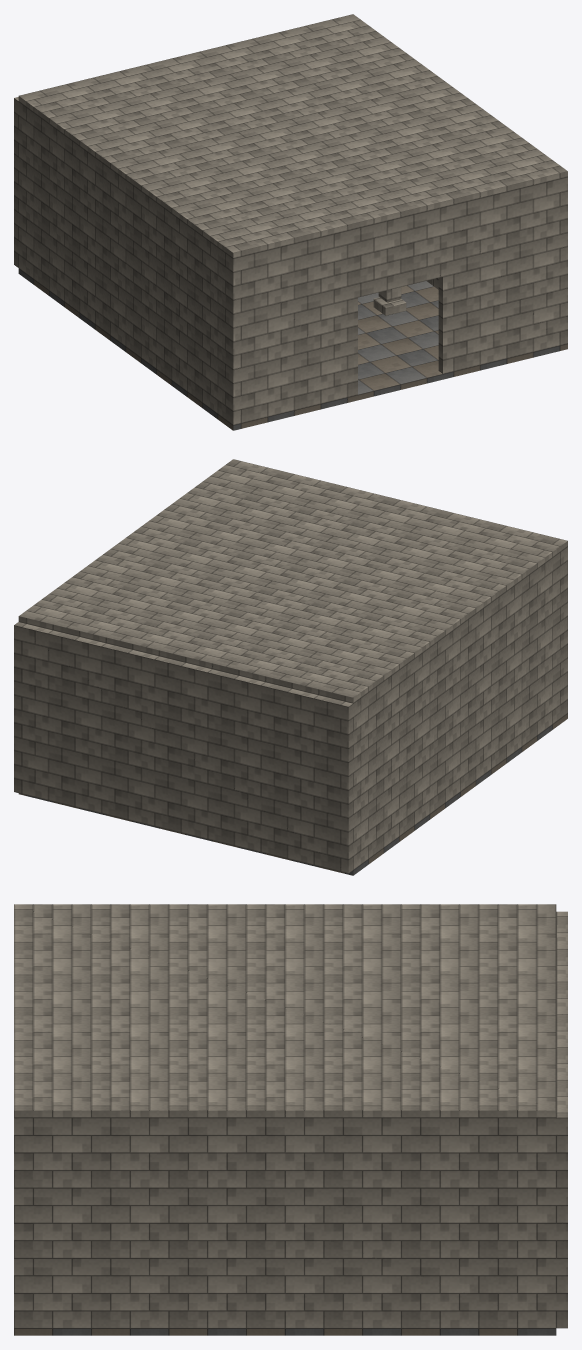
Rendered from MOD_RoomStart.fbx.
3 views of the same model, one above another, from view 1: azimuth 30°, elevation 25°; view 2: azimuth 150°, elevation 25°; view 3: azimuth 270°, elevation 25° (orthographic). The views are drawn at different scales.
Visible parts, largest first — view 1: Ceiling.003, Wall_Side.002, Wall_S.001, Wall_S, Floor.003, Exit_Head, Wall_Side.003, Wall_N, Pillar_1; view 2: Ceiling.003, Wall_N, Wall_Side.002, Floor.003; view 3: Ceiling.003, Wall_Side.003, Wall_N, Floor.003.
Part boxes in pixels (bbox=[...]): Ceiling.003: bbox=[18, 14, 567, 258]; Wall_Side.002: bbox=[18, 102, 241, 425]; Wall_S.001: bbox=[438, 179, 559, 373]; Wall_S: bbox=[241, 228, 357, 423]; Floor.003: bbox=[18, 268, 567, 430]; Exit_Head: bbox=[358, 207, 442, 297]; Wall_Side.003: bbox=[560, 177, 567, 345]; Wall_N: bbox=[14, 97, 18, 267]; Pillar_1: bbox=[373, 287, 406, 315]; Ceiling.003: bbox=[18, 459, 567, 703]; Wall_N: bbox=[14, 622, 353, 873]; Wall_Side.002: bbox=[353, 546, 567, 869]; Floor.003: bbox=[18, 713, 567, 875]; Ceiling.003: bbox=[14, 904, 556, 1117]; Wall_Side.003: bbox=[14, 1117, 556, 1328]; Wall_N: bbox=[556, 911, 567, 1328]; Floor.003: bbox=[14, 1328, 556, 1335].
Size of the model in its own units: 12.6 by 6.4 by 14.3.
